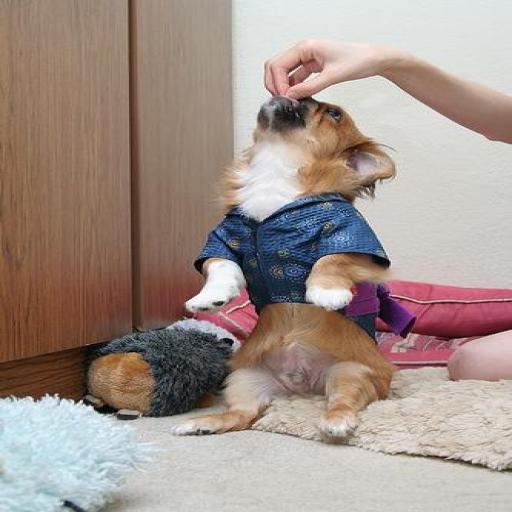dog_face: (238, 90, 409, 192)
